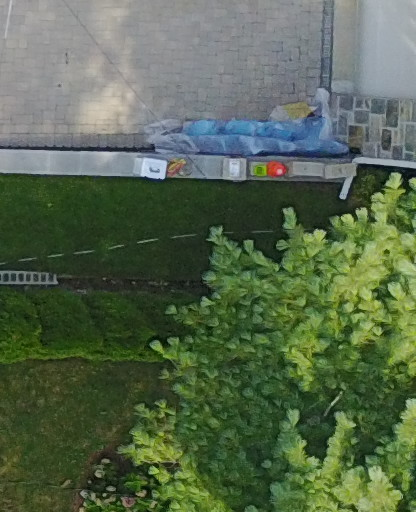container: (131, 146, 169, 185), (267, 157, 291, 186), (249, 156, 270, 183)
tarp: (146, 98, 370, 169)
